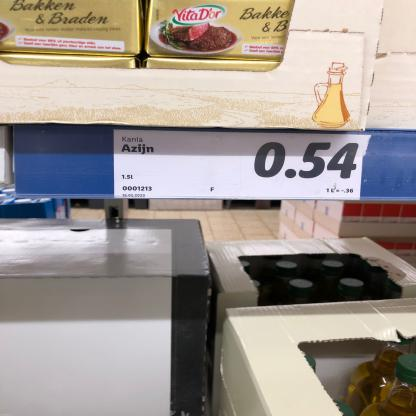prtg: (114, 130, 366, 201)
